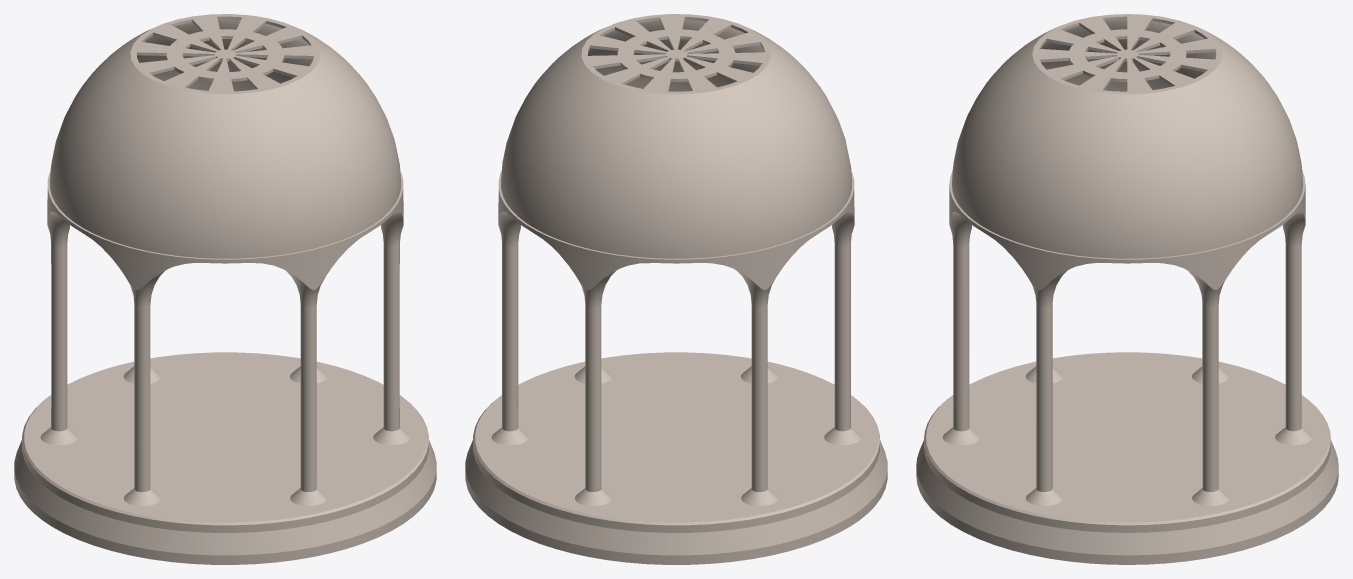
3 renders of one model, left to right at view 1: azimuth 30°, elevation 25°; view 2: azimuth 150°, elevation 25°; view 3: azimuth 270°, elevation 25°, orthographic.
Visible parts, largest first — view 1: Body7, Body1, Body8; view 2: Body7, Body1, Body8; view 3: Body7, Body1, Body8.
Part boxes in pixels (box(x1,y1,x2,y2)): Body7: box(50, 14, 400, 258); Body1: box(14, 352, 436, 564); Body8: box(40, 171, 410, 506); Body7: box(501, 14, 851, 258); Body1: box(465, 352, 887, 564); Body8: box(491, 171, 861, 506); Body7: box(952, 14, 1302, 258); Body1: box(916, 352, 1338, 564); Body8: box(942, 171, 1312, 505).
Size of the model in its own units: 200 by 220 by 200.
